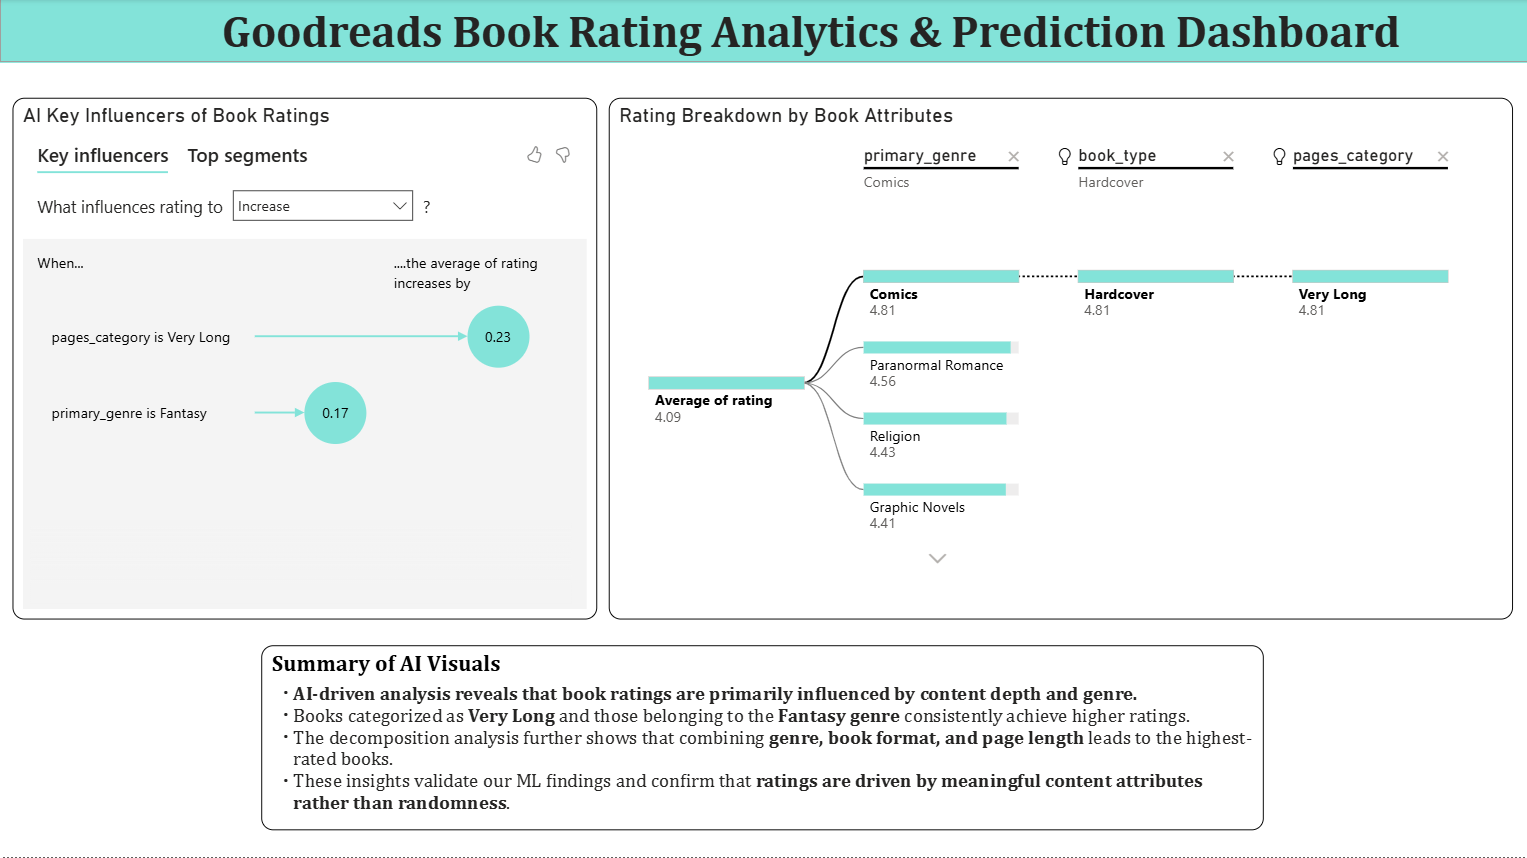

What the dashboard file says about the page in this screenshot:
{"tool":"powerbi","page":{"name":"AI & Prediction Insights","canvas":[1280,720],"ordinal":1},"visuals":[{"type":"keyDriversVisual","title":"AI Key Influencers of Book Ratings","fields":{"Target":["books_cleaned_data.rating"],"ExplainBy":["books_cleaned_data.primary_genre","books_cleaned_data.book_type","books_cleaned_data.pages_category","Sum(books_cleaned_data.ratings_count_log)","Sum(books_cleaned_data.votes_log)","Sum(books_cleaned_data.book_age)"]},"box":[10.3,82.7,490.5,437.7],"z":0},{"type":"decompositionTreeVisual","title":"Rating Breakdown by Book Attributes","fields":{"Analyze":["Avg(books_cleaned_data.rating)"],"ExplainBy":["books_cleaned_data.primary_genre","books_cleaned_data.book_type","books_cleaned_data.pages_category"]},"box":[510.6,82.7,758.7,437.5],"z":1000},{"type":"shape","box":[0,0,1360.5,53.4],"z":2000},{"type":"textbox","box":[0,0,1360,53],"z":3000},{"type":"textbox","title":"Summary of AI Visuals ","box":[219.4,542.2,840.8,155.1],"z":5000}]}

Visuals, with their boxes in screenshot pixels (x1, y1, x2, y2), scaled from the page's 1280x720 canvas onto the 1527x858 screenshot:
"AI Key Influencers of Book Ratings" keyDriversVisual: x1=12 y1=99 x2=597 y2=620
"Rating Breakdown by Book Attributes" decompositionTreeVisual: x1=609 y1=99 x2=1514 y2=620
shape: x1=0 y1=0 x2=1526 y2=64
textbox: x1=0 y1=0 x2=1526 y2=63
"Summary of AI Visuals " textbox: x1=262 y1=646 x2=1265 y2=831
